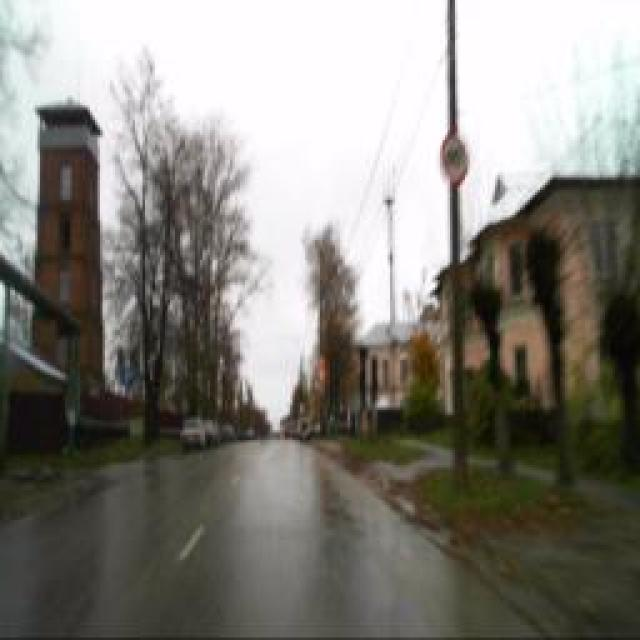sign: (440, 135, 468, 187)
